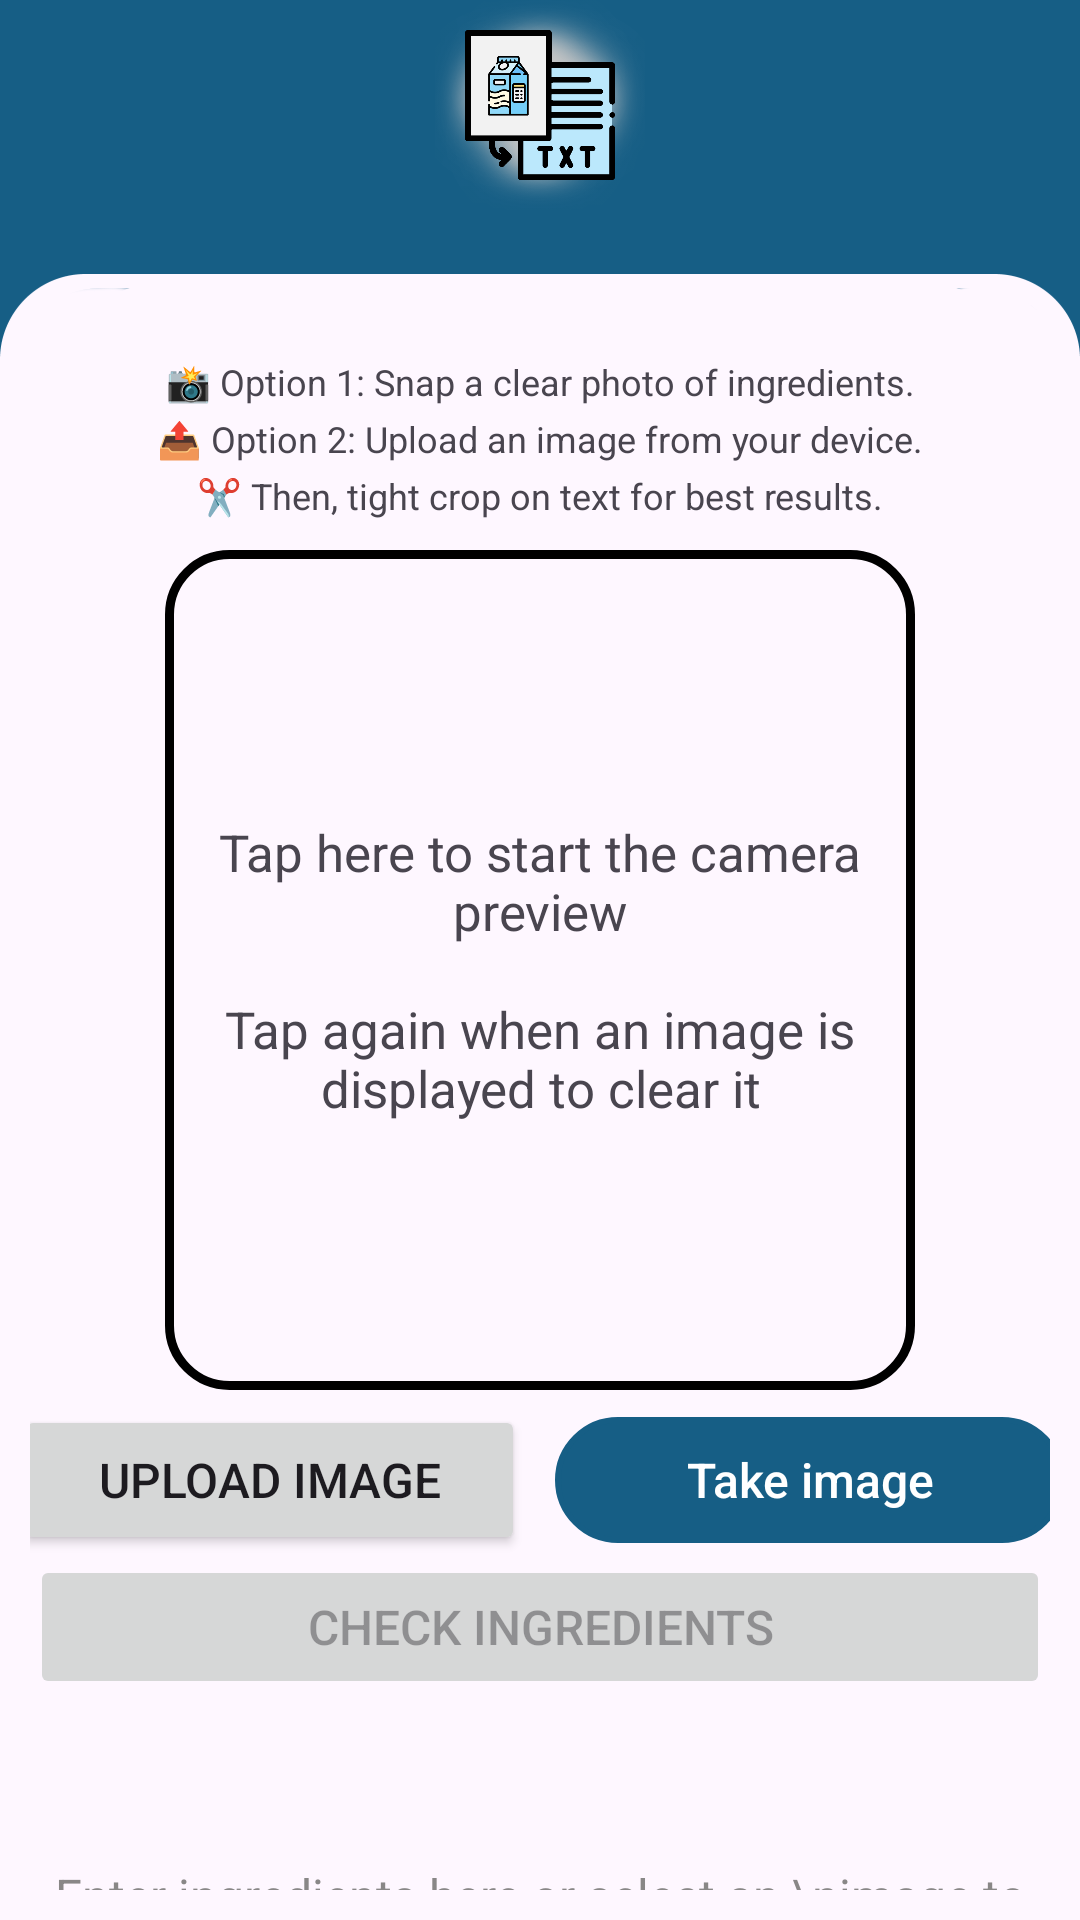

Locate icon controls on the screen. Image size 1080w x 1920h, boxes as (x1, y1, x2, y2).
ocr carton: (449, 17, 630, 191)
